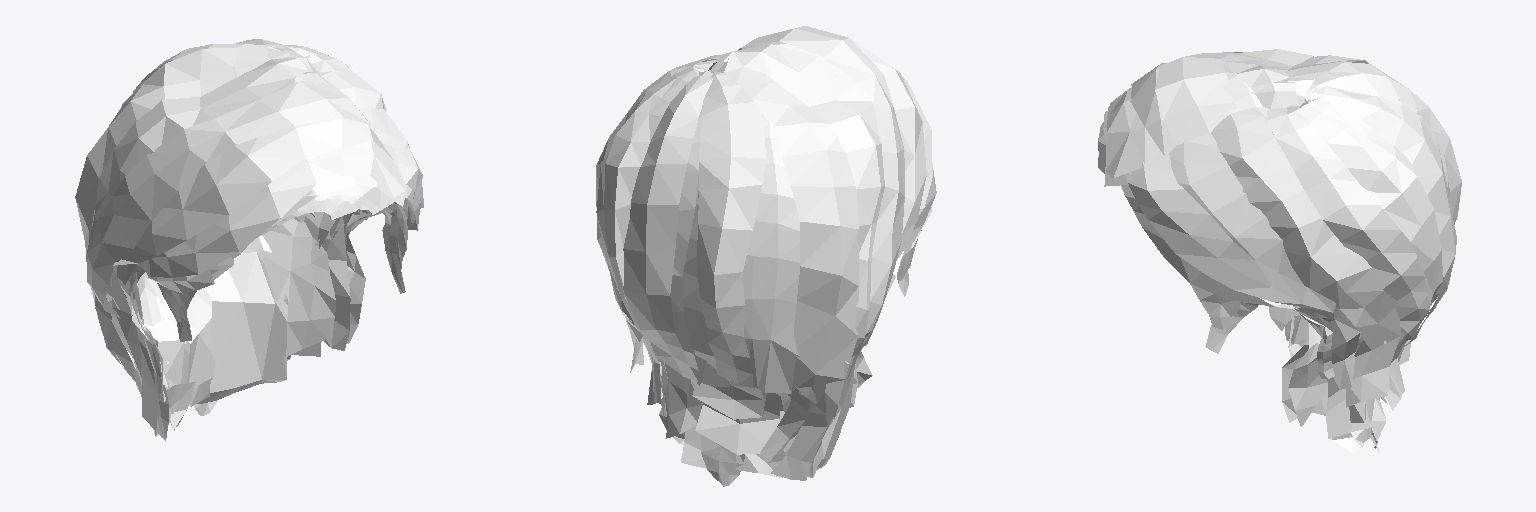
File: Hair.obj
3 renders of one model, left to right at view 1: azimuth 30°, elevation 25°; view 2: azimuth 150°, elevation 25°; view 3: azimuth 270°, elevation 25°, orthographic.
Visible parts, largest first — view 1: hair_; view 2: hair_; view 3: hair_.
Part boxes in pixels (x1,y1,x2,y2): hair_: (75,39,423,440); hair_: (596,26,936,486); hair_: (1098,49,1461,452).
Size of the model in its own units: 33.57 by 44.97 by 38.15.